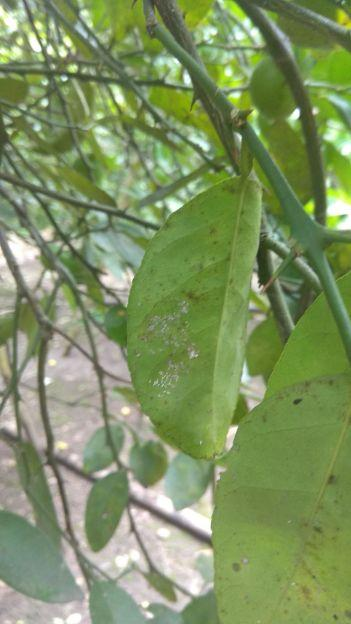Myzus persicae: (137, 298, 205, 397)
